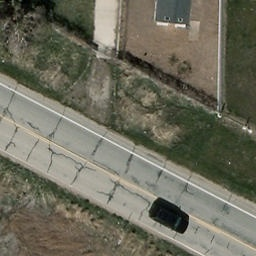car: (146, 202, 194, 232)
